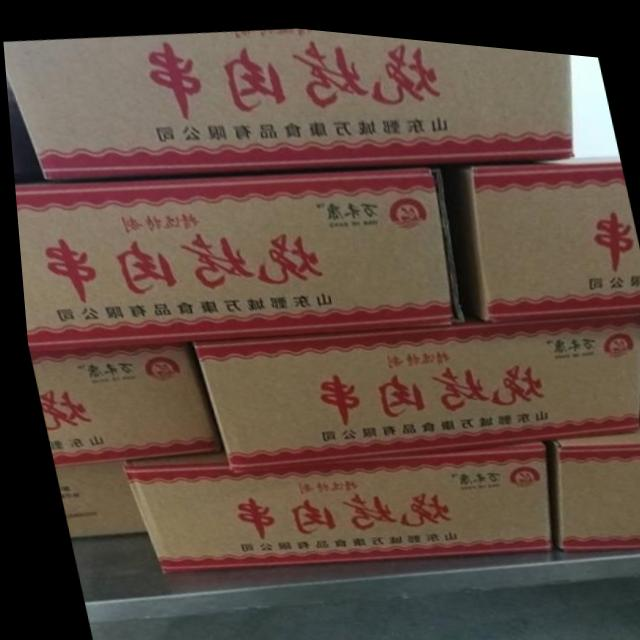box: (3, 23, 573, 180), (12, 157, 459, 351), (190, 302, 640, 466), (117, 432, 542, 569), (448, 143, 640, 313), (25, 339, 216, 467), (542, 406, 640, 540), (48, 461, 138, 537), (5, 79, 38, 178)
